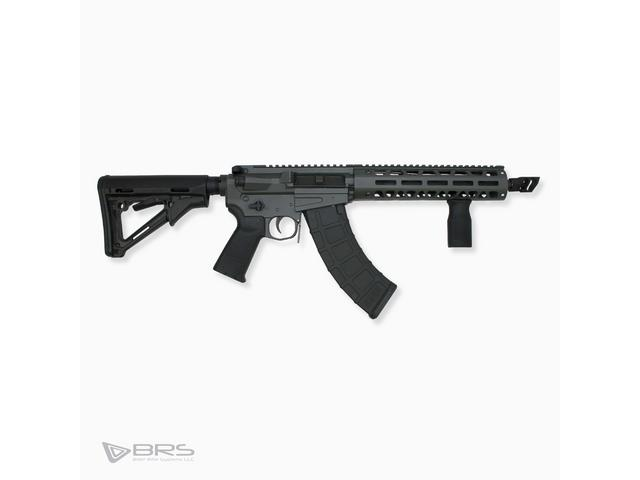rifle: (94, 161, 540, 327)
